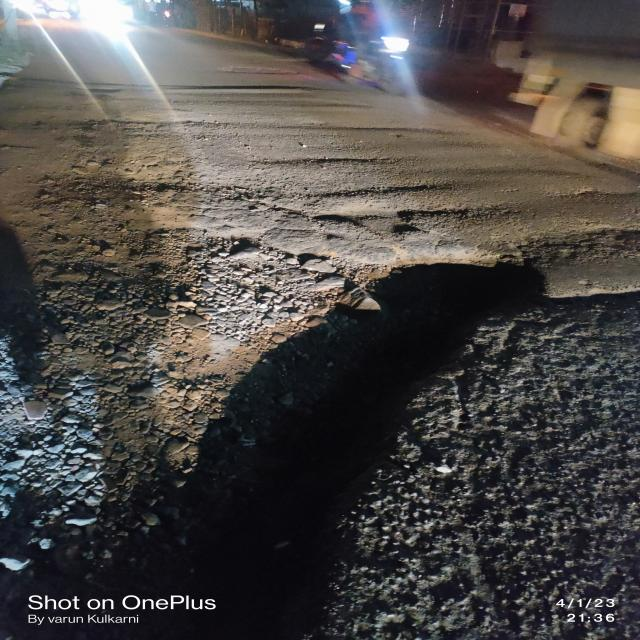potholes: (184, 279, 484, 640), (312, 254, 582, 318), (302, 201, 513, 228), (322, 118, 482, 138), (194, 80, 346, 101), (293, 152, 387, 171)
